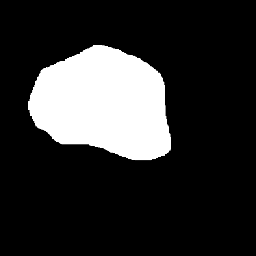mass: (34, 51, 168, 158)
